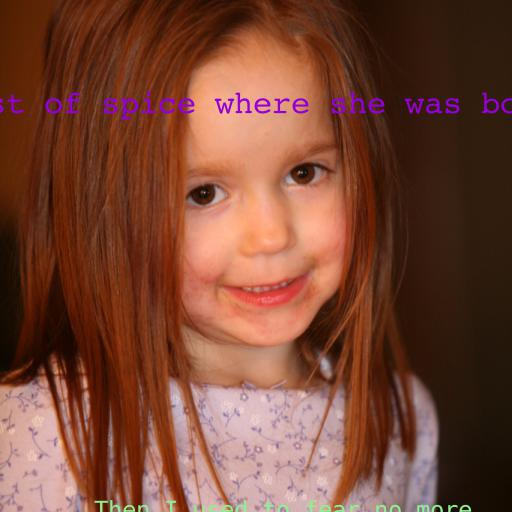Courier: (0, 91, 512, 120)
Menlo: (94, 500, 472, 512)
